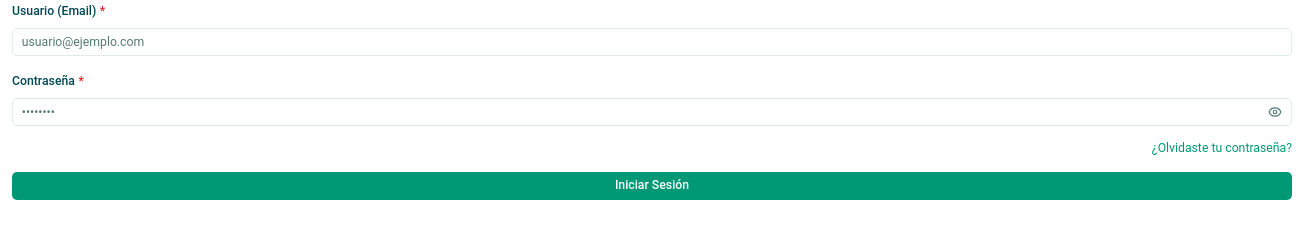
Scenario: LoginForm › Validación de campos › debe mostrar error cuando la contraseña está vacía al hacer blur
Click the password field with placeholder "••••••••" at point(652, 112), box [12, 98, 1292, 126]
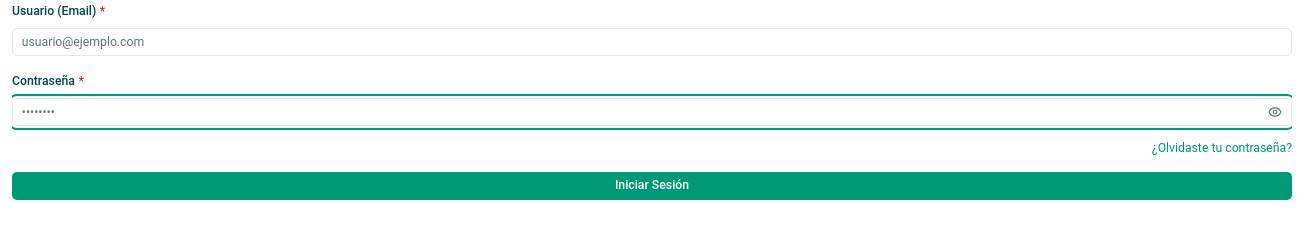
Press Tab
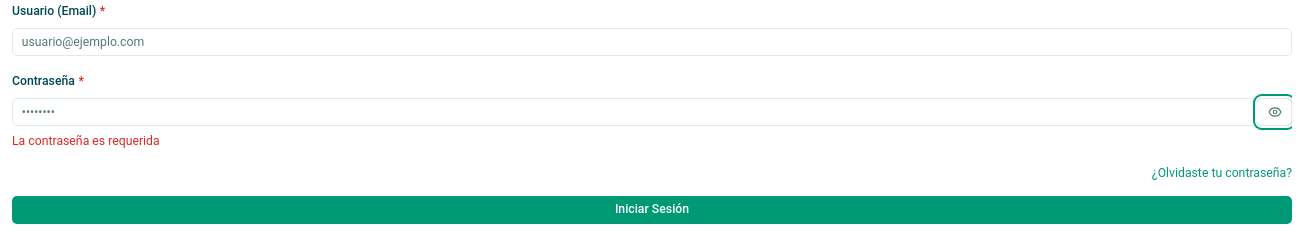
Expected: the text "La contraseña es requerida" is shown, [12, 134, 160, 148]
